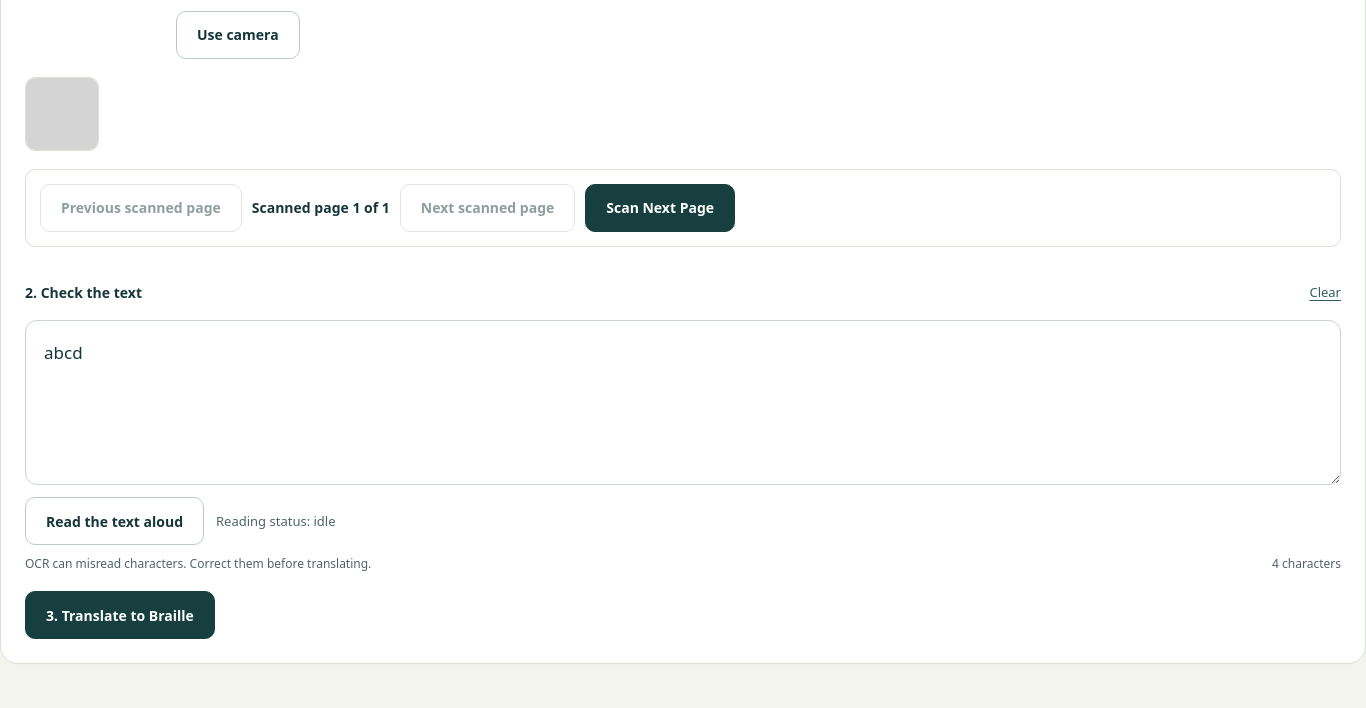
Scenario: CameraPanel › uploads, OCRs into an editable box, and translates the corrected text
Earlier steps of the test are not shown.
(page scrolled)
Clear the text box showing "abcd" at (683, 403), box 25,320 -> 1341,486
(page scrolled)
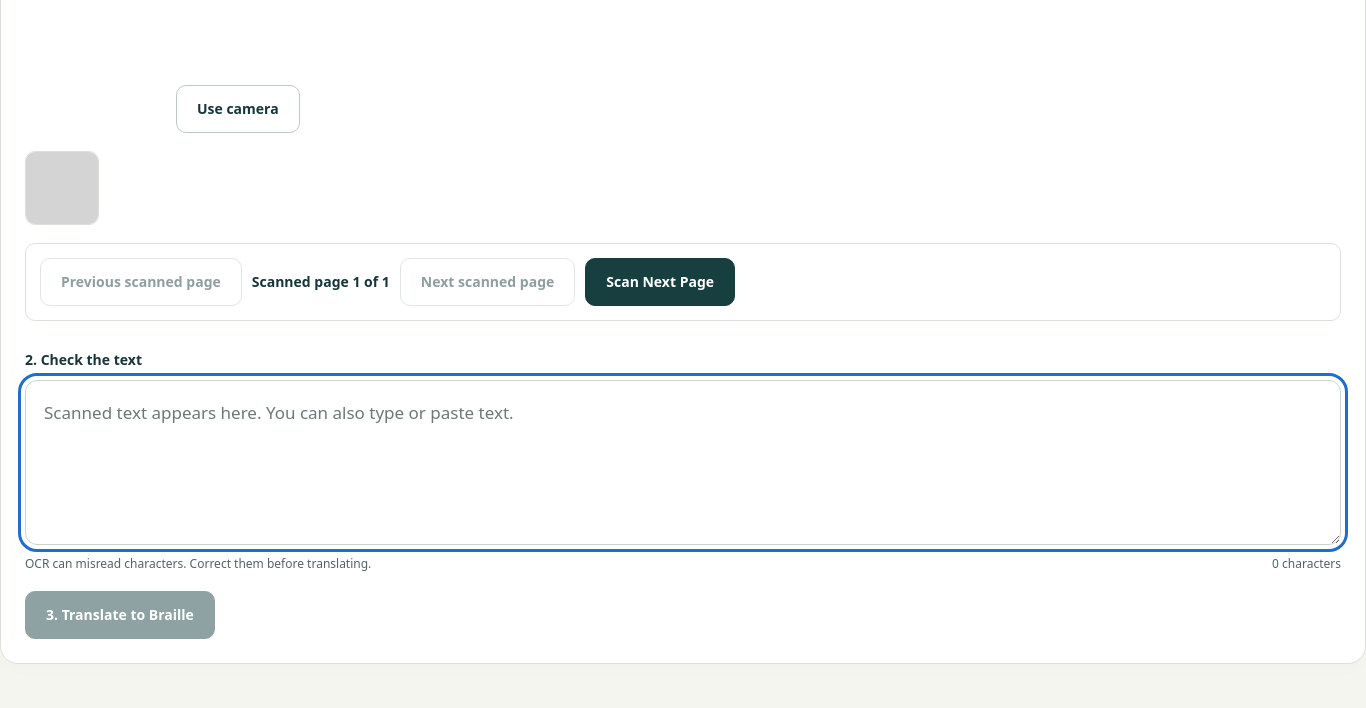
Type "abcd!" into the text box showing "abcd" at (683, 462), box 25,380 -> 1341,545
(page scrolled)
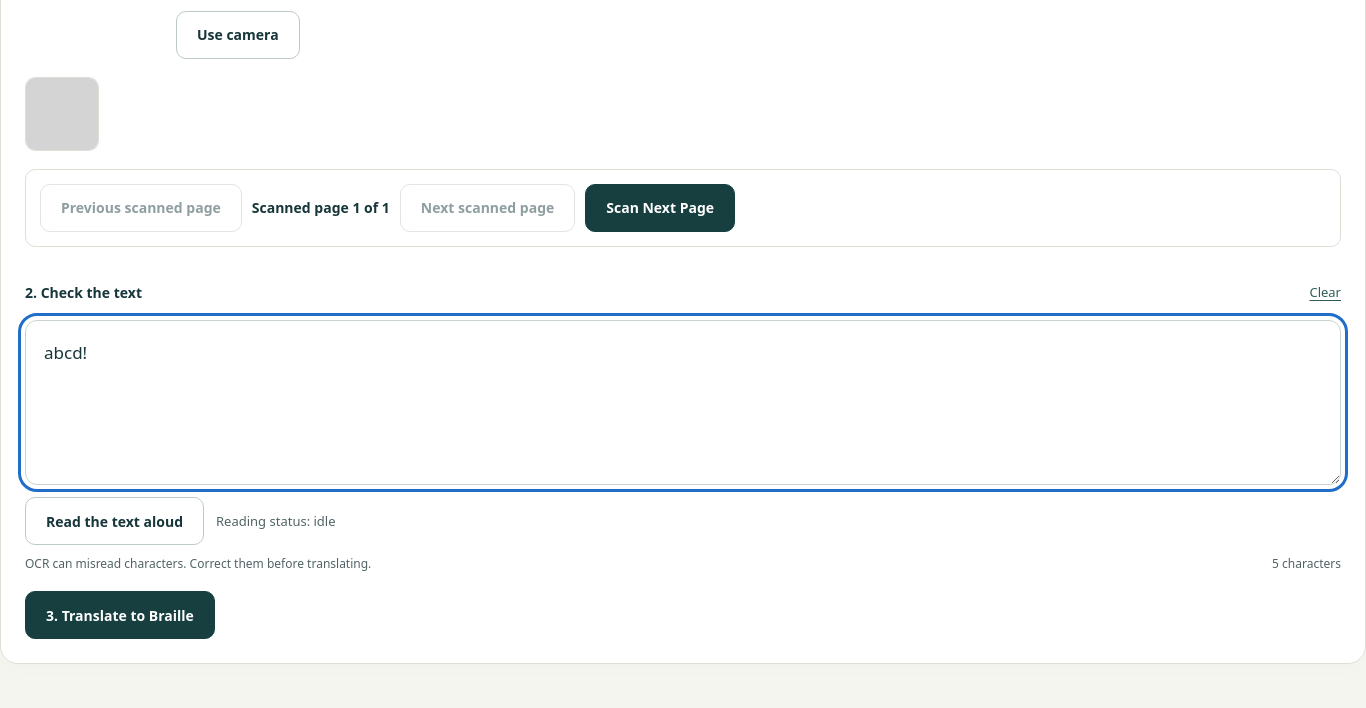
Click the button "3. Translate to Braille" at (120, 616), box 25,592 -> 215,640
(page scrolled)
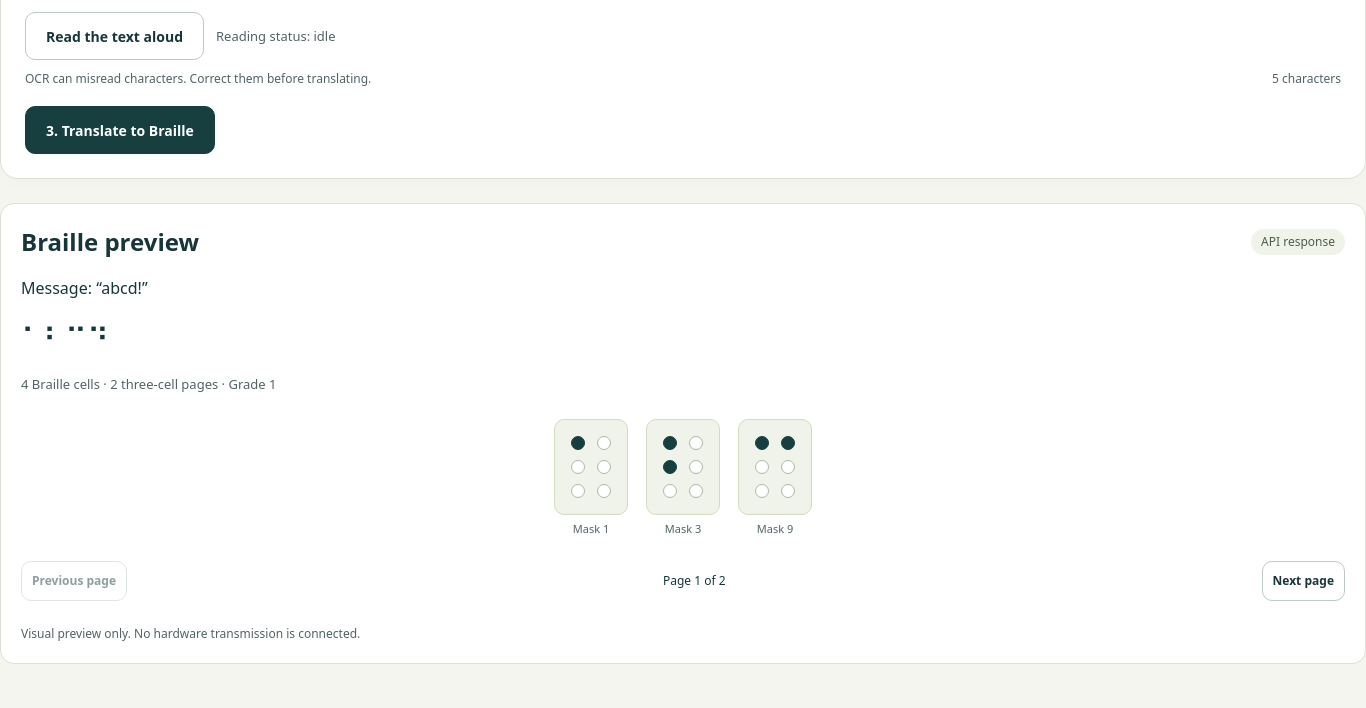
Expected: the text "Page 1 of 2" is shown, 663,572 -> 726,590
Click the button "Next page" at (1303, 582), box 1262,562 -> 1345,602
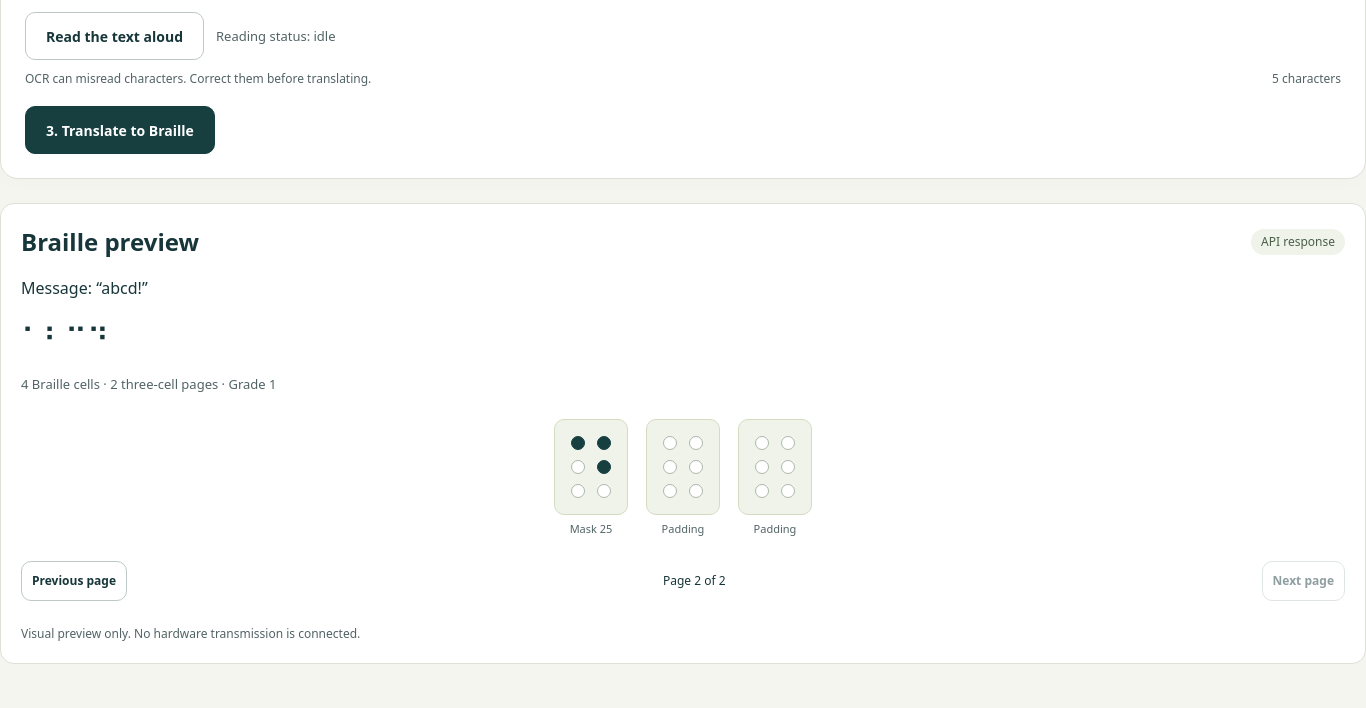
Expected: the text "Page 2 of 2" is shown, 663,572 -> 726,590
